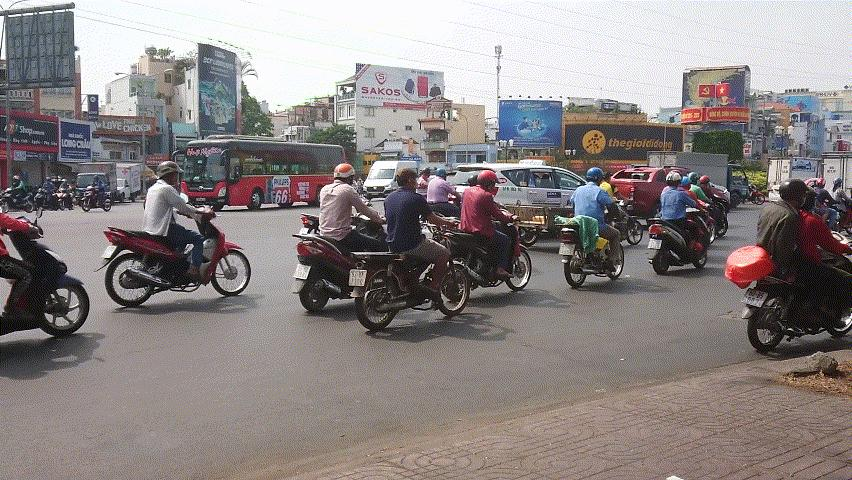bicyclist: (348, 166, 471, 329)
driver: (93, 161, 252, 308), (722, 177, 852, 352), (290, 162, 386, 312), (438, 169, 532, 291), (557, 167, 625, 289), (643, 172, 712, 276)
helmet: (779, 178, 812, 209), (156, 161, 184, 187), (333, 162, 357, 187), (477, 170, 500, 194), (585, 167, 607, 187), (666, 171, 683, 190)
no-helmet: (394, 167, 422, 192)
